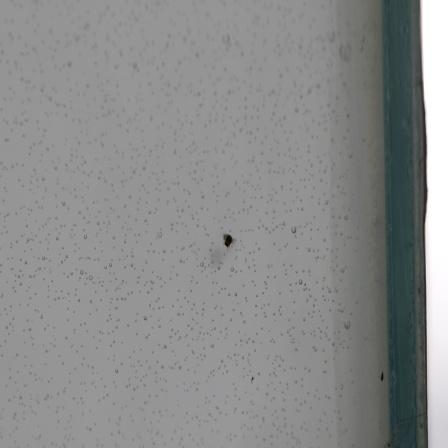Jentik-Nyamuk: (219, 226, 237, 252)
